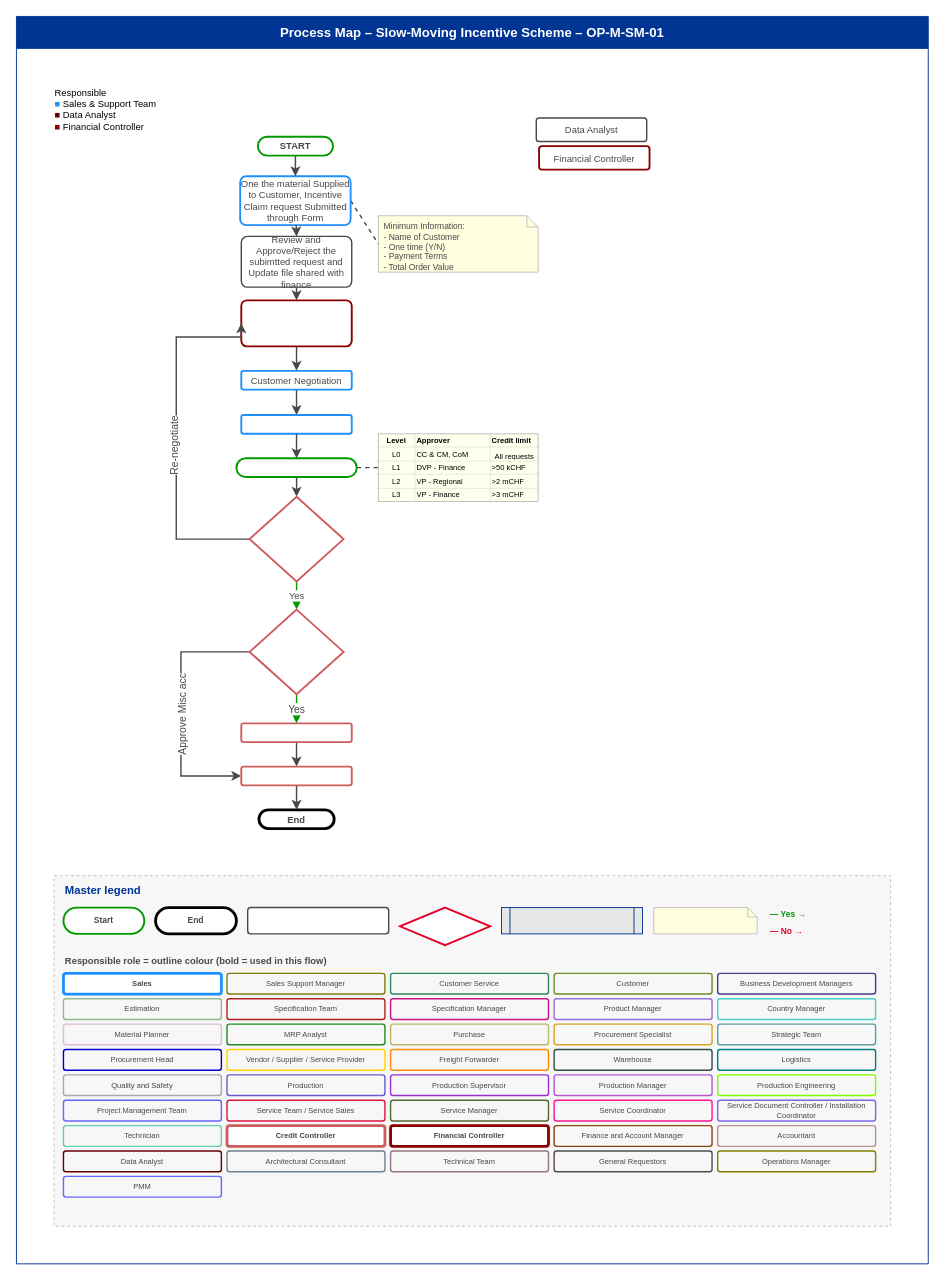
Some shapes in this 945 by 1280 pixel diagram are drawn without their labels. The centre of each missing label's shape, as x and y in pixels:
"Activity (outline = role)" goes at pixel 318 920.
"CREDIT Approval" goes at pixel 296 467.
"Credit Approved?" goes at pixel 296 538.
"Customer Created" goes at pixel 296 732.
"Decision" goes at pixel 445 926.
"Linked process (Ref ID)" goes at pixel 571 920.
"Note / checklist" goes at pixel 705 920.
"Review the pending Approved order, and check if the Customer payment is received" goes at pixel 296 323.
"To be Created?" goes at pixel 296 651.
"Update Requestor" goes at pixel 296 775.
"Update the outcome" goes at pixel 296 424.
